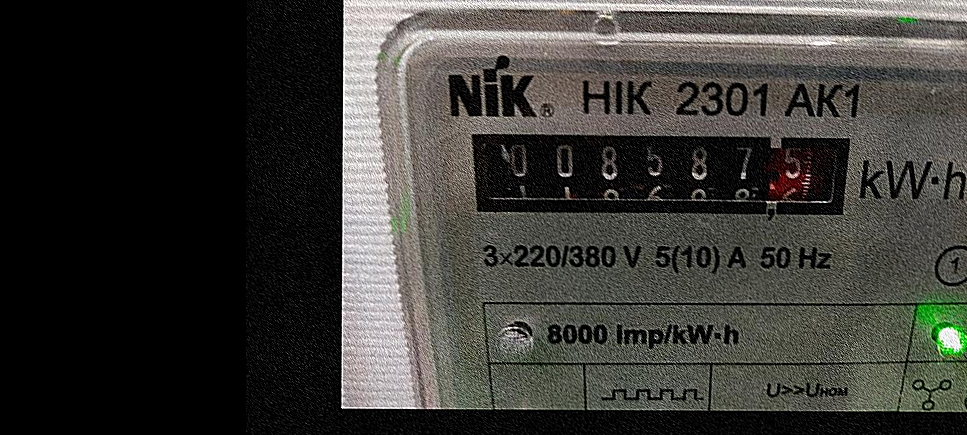0: (551, 140, 576, 180)
1: (505, 140, 530, 181)
5: (780, 142, 805, 182), (642, 141, 666, 180)
7: (731, 143, 755, 184)
8: (595, 142, 621, 183), (687, 143, 709, 184)
screen: (450, 114, 869, 236)
